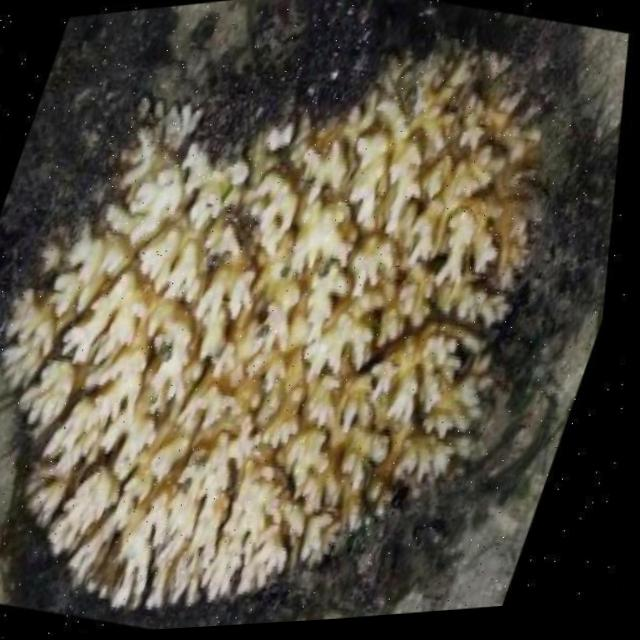Bleached Coral: (10, 87, 560, 621)
